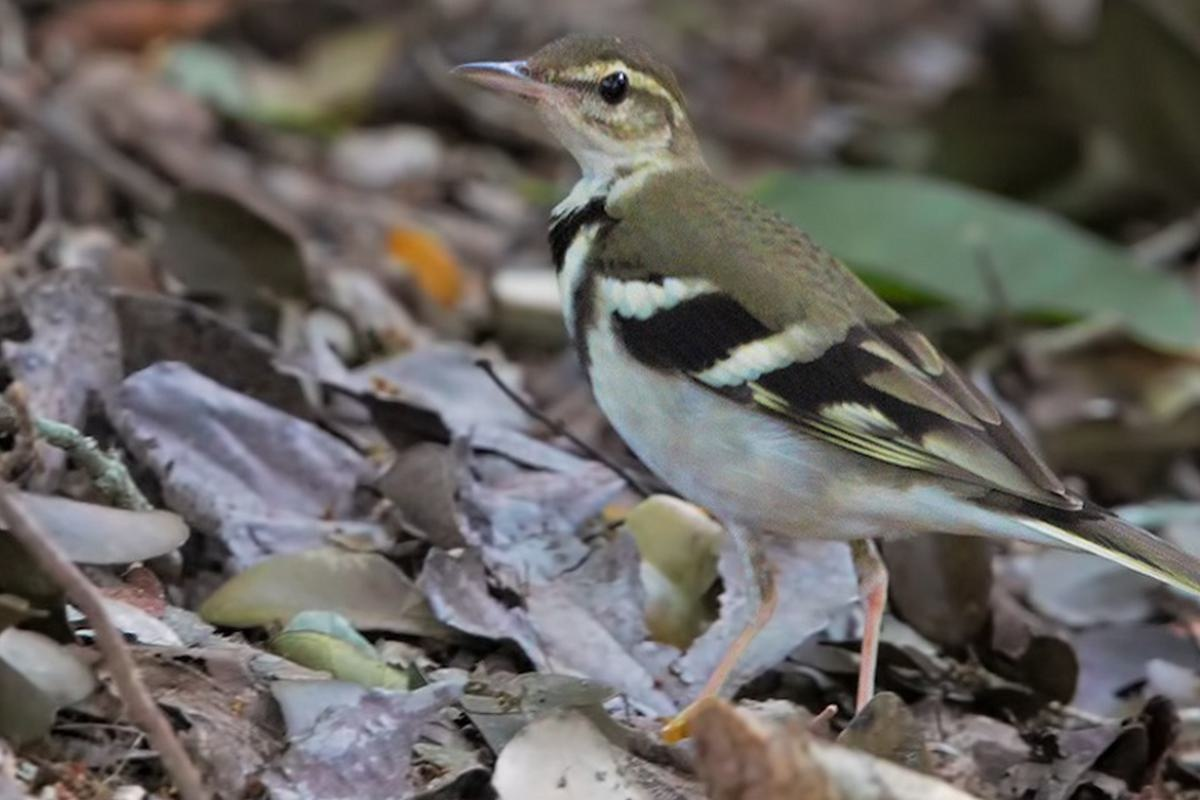wagtail: (475, 26, 1151, 647)
